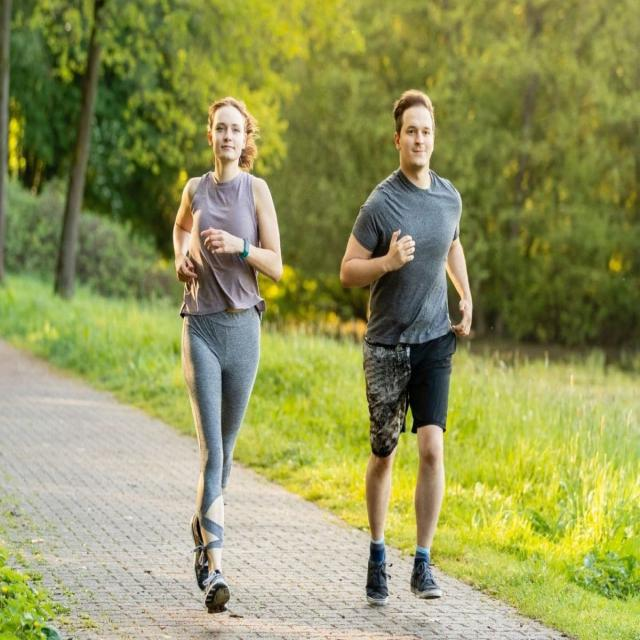Person: (341, 91, 473, 604), (174, 98, 283, 612)
